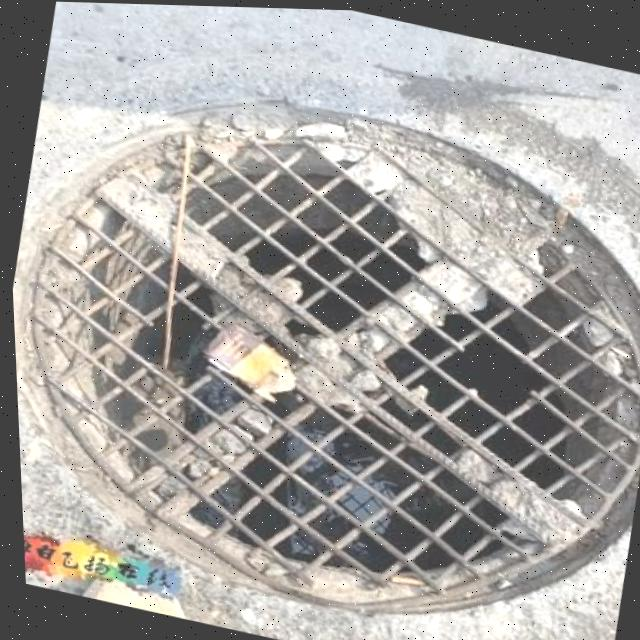manhole: (1, 42, 640, 640)
